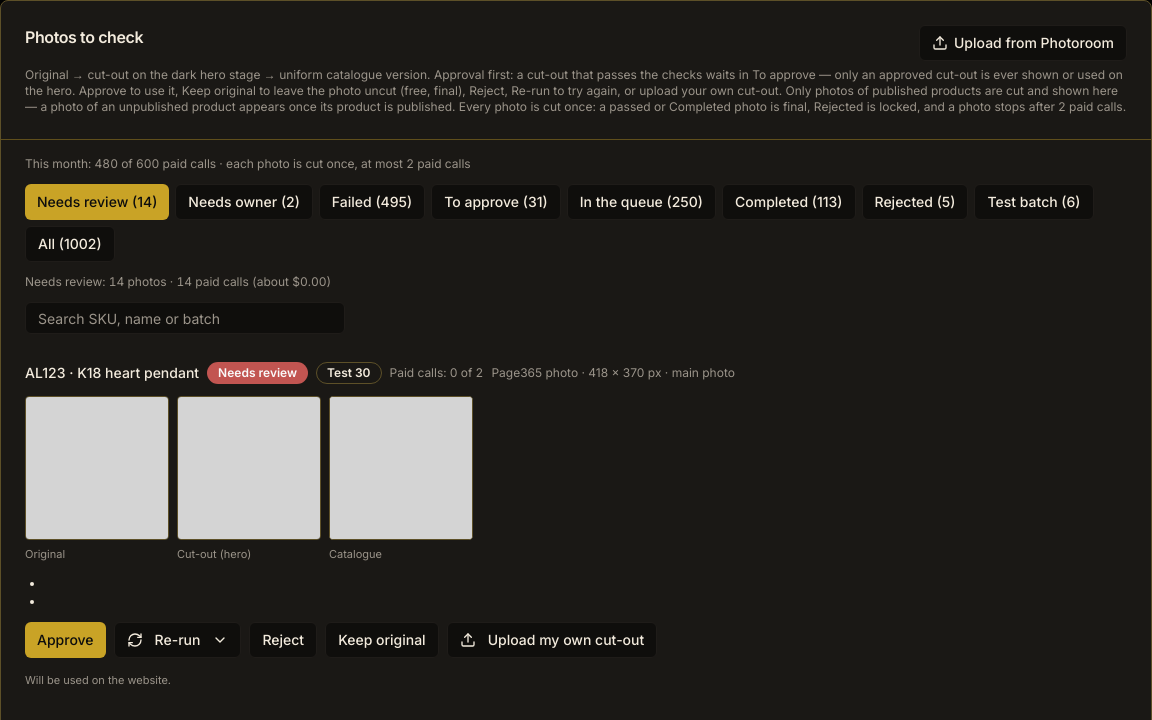
publish gate + Keep original (owner rules 2026-09-28) › the queue counts only publish-eligible photos; there is NO Waiting for publish tab (owner, 2026-09-28)
Expected: the tab "In the queue (250)" is shown, top-left (567, 184), bottom-right (716, 220)
Click the tab "Completed (113)" at (789, 202), box top-left (722, 184), bottom-right (856, 220)
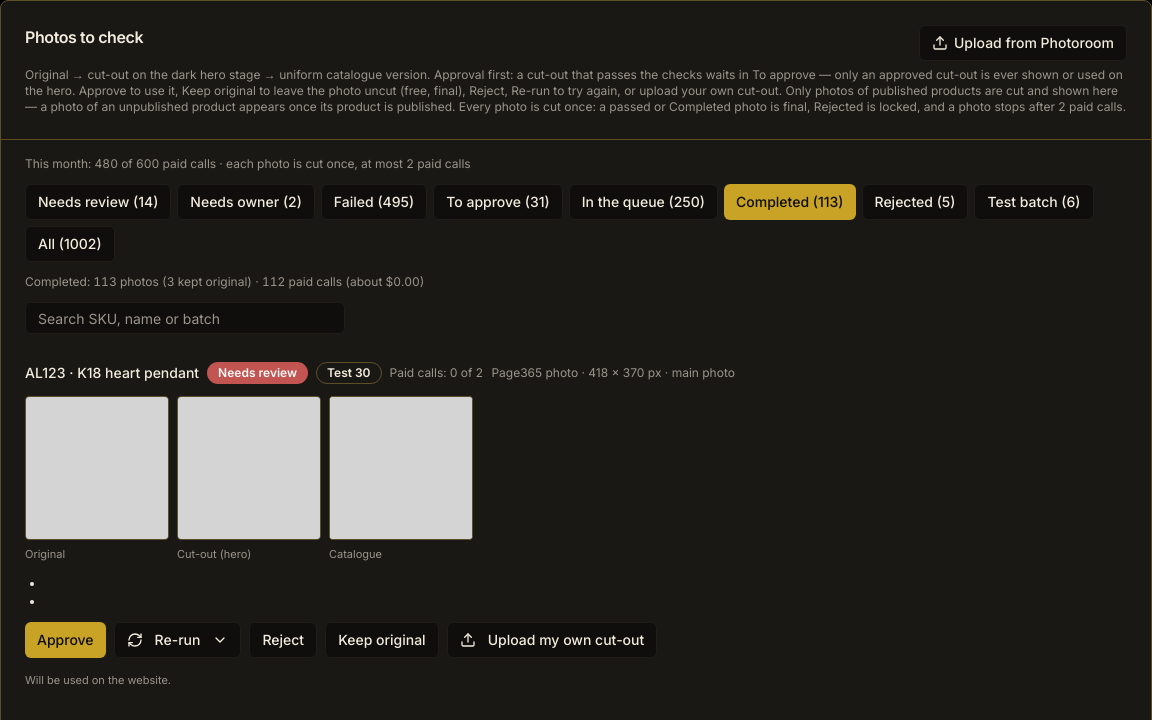
Now the text with test id "cutout-tab-totals" shows "Completed: 113 photos (3 kept original)", box top-left (25, 274), bottom-right (424, 289)
